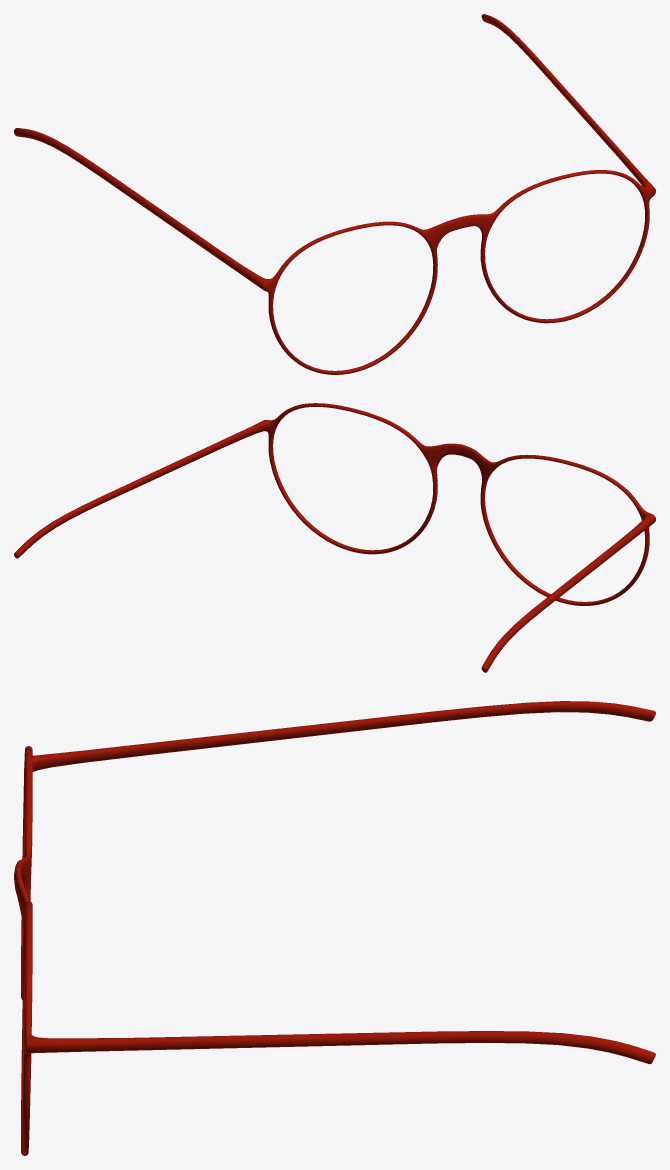
Rendered from eyewear-glasses-red-d9806354.glb.
3 views of the same model, one above another, from view 1: azimuth 30°, elevation 25°; view 2: azimuth 150°, elevation 25°; view 3: azimuth 270°, elevation 25° (orthographic). The views are drawn at different scales.
Visible parts, largest first — view 1: Geo_Black_Older_Female_Glasses_Red.001; view 2: Geo_Black_Older_Female_Glasses_Red.001; view 3: Geo_Black_Older_Female_Glasses_Red.001.
Boxes of the visible parts, x1,y1,x2,y2 form: Geo_Black_Older_Female_Glasses_Red.001: (14, 14, 655, 374); Geo_Black_Older_Female_Glasses_Red.001: (14, 403, 655, 672); Geo_Black_Older_Female_Glasses_Red.001: (14, 701, 655, 1155).
Size of the model in its own units: 1.55 by 0.4518 by 1.22.
